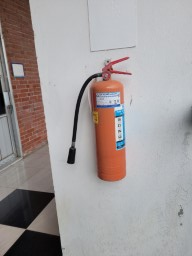fire_extinguisher: (42, 79, 137, 167), (42, 79, 137, 135), (59, 87, 136, 135)
